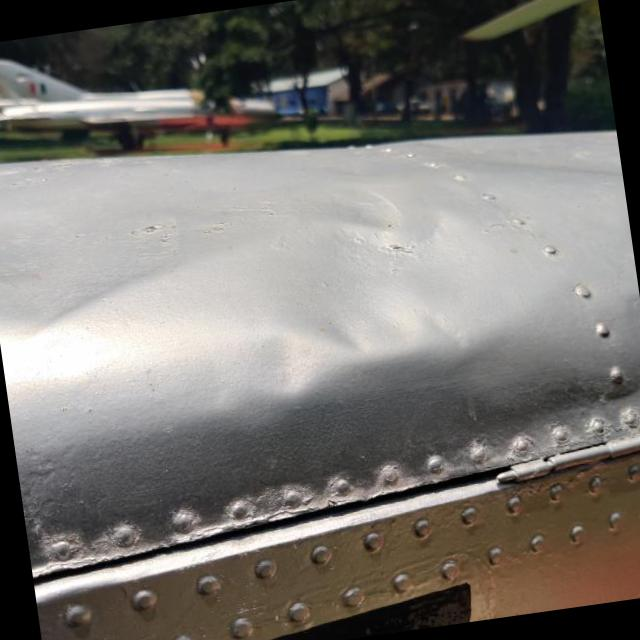Dent: (218, 138, 568, 415)
